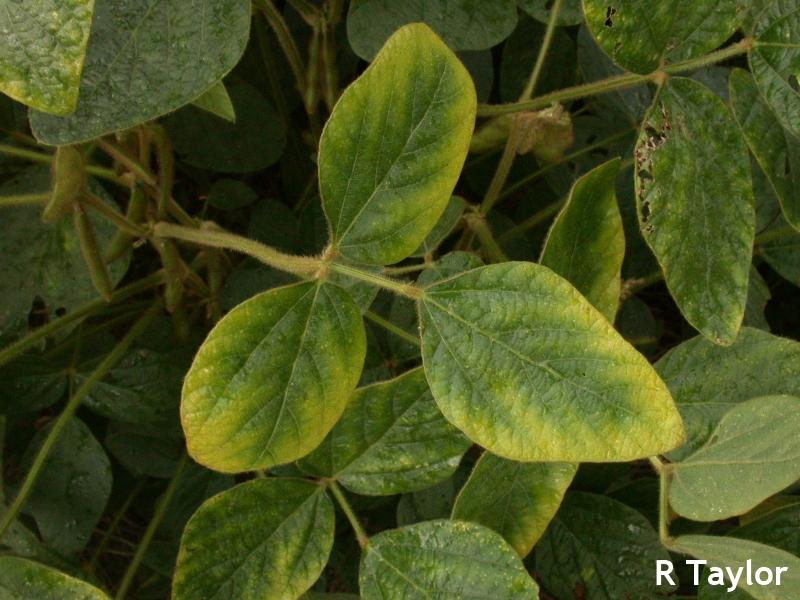Soyabean leaf: (413, 258, 690, 468), (315, 20, 478, 267), (178, 275, 371, 475)
